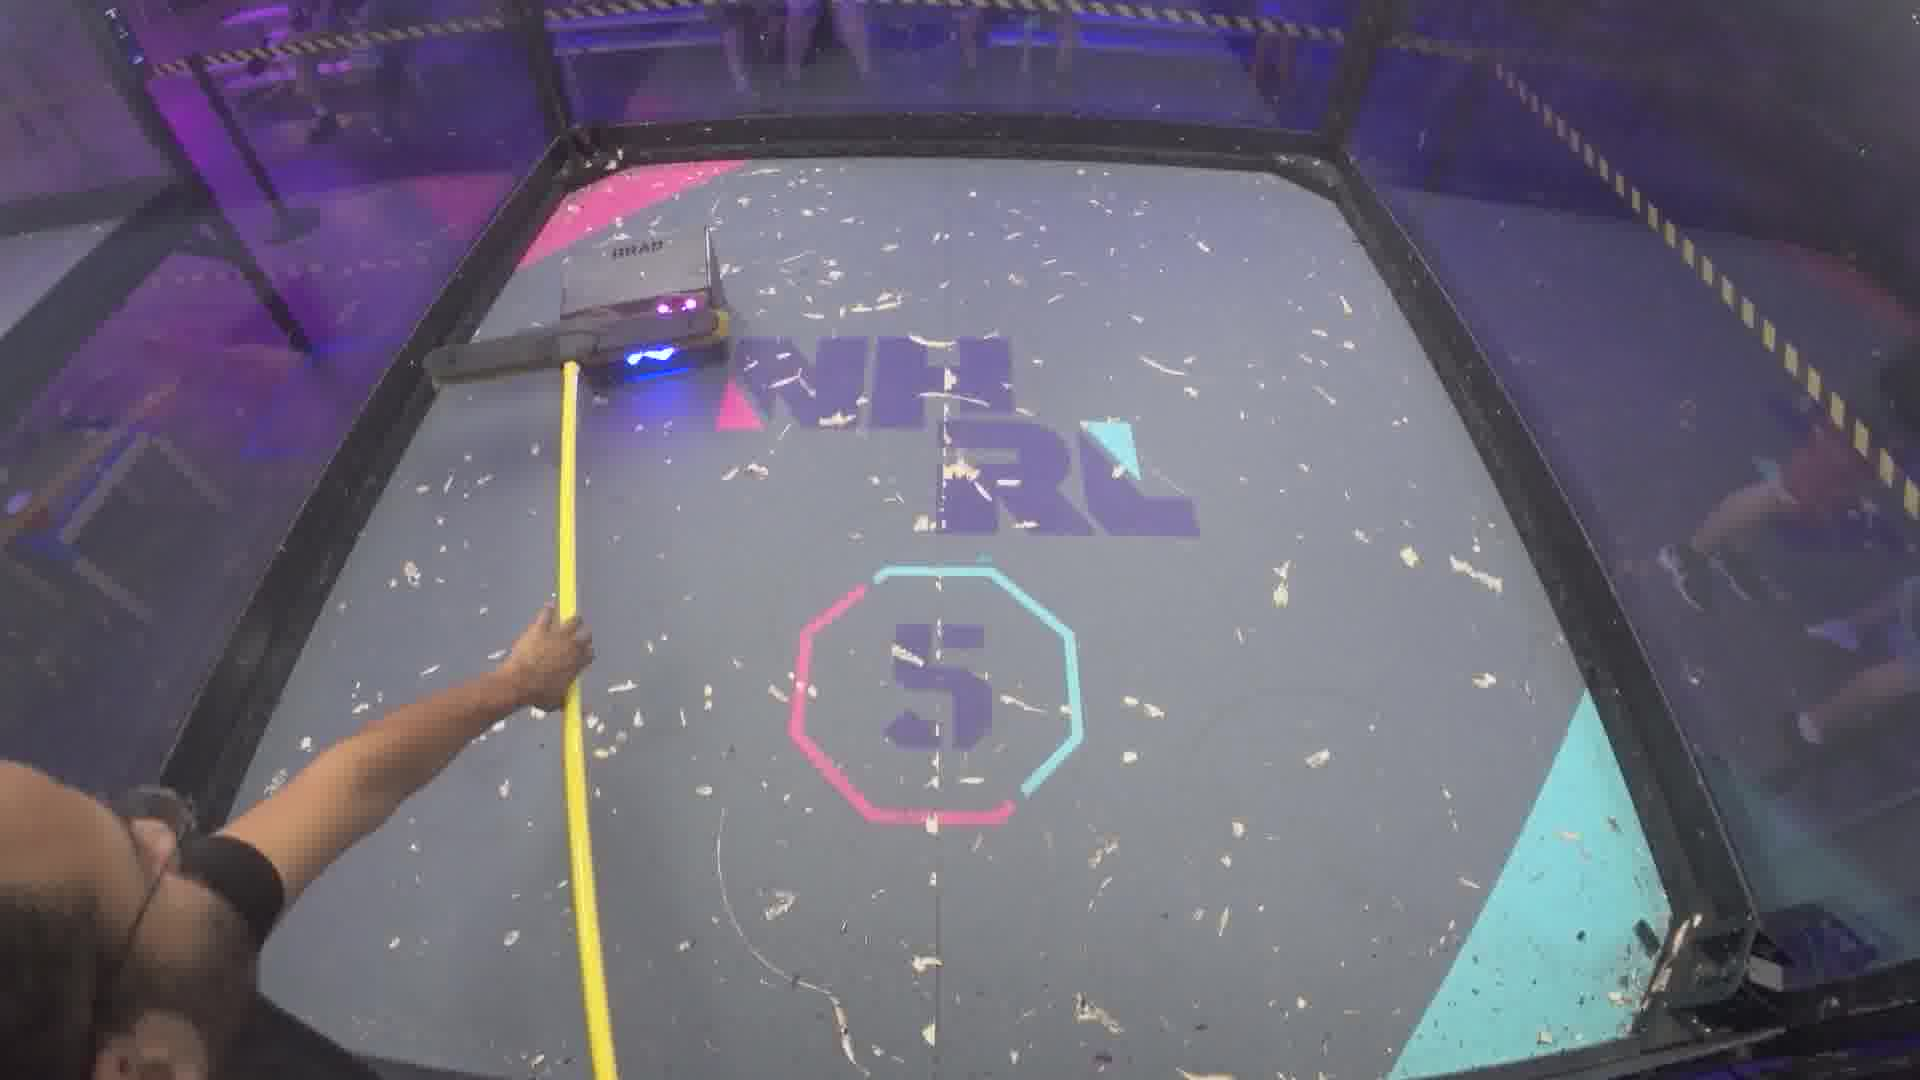housebot: (559, 231, 736, 389)
